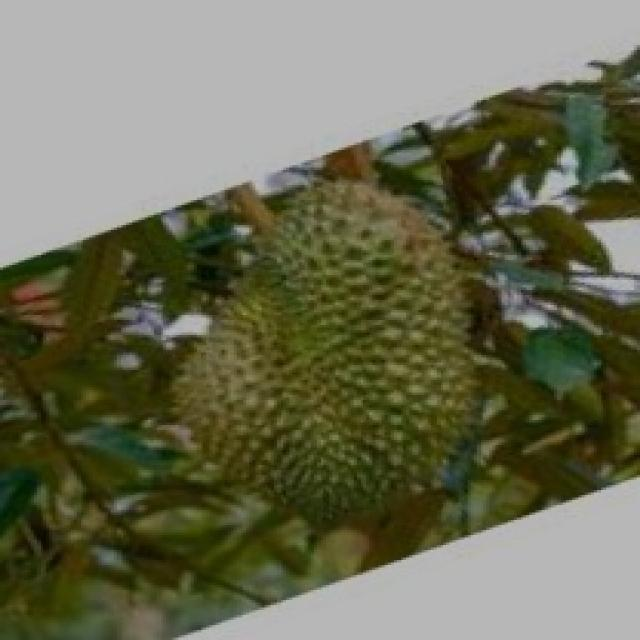fruit: (126, 170, 539, 592)
